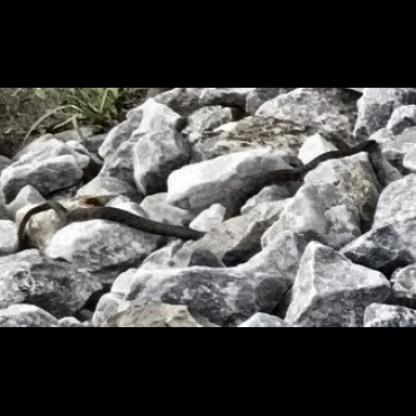Snake: (1, 135, 413, 243)
